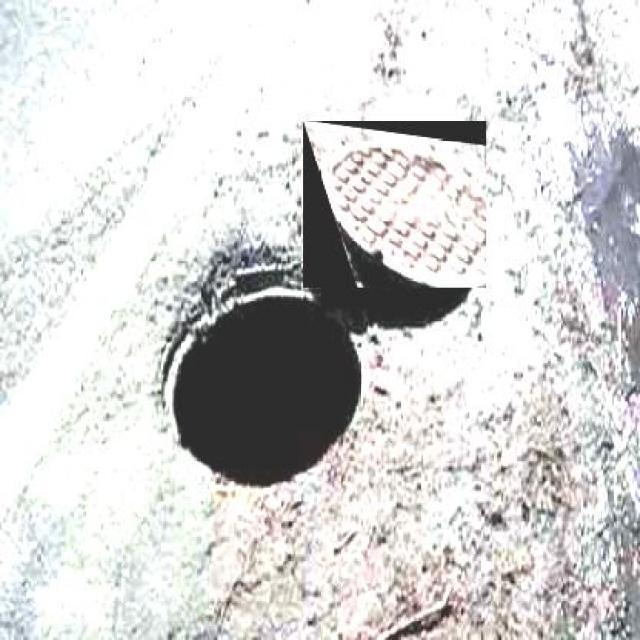Manhole: (303, 120, 486, 288)
Open Manhole: (156, 289, 366, 493)
